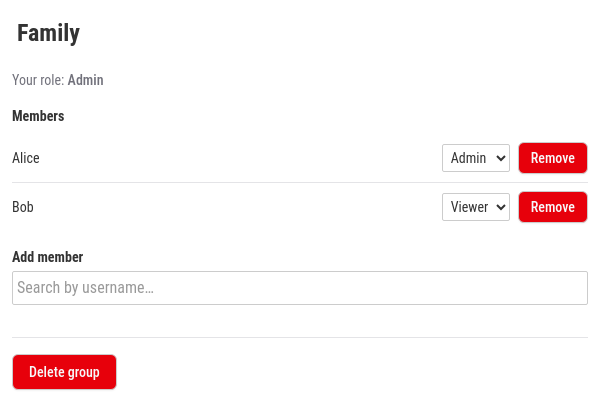
Test: GroupDetailPage – add member › filters out existing members from search results
This screenshot has width=605, height=407.
Type "x" into the field named "Search users to add". click: (300, 288)
box: [12,271,588,305]
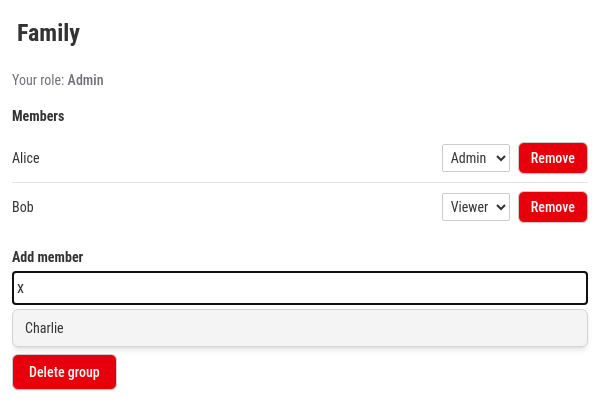
Expected: the text "Alice" is shown once, [12,150,40,166]
Expected: the option "Charlie" is shown, [25,320,64,336]
